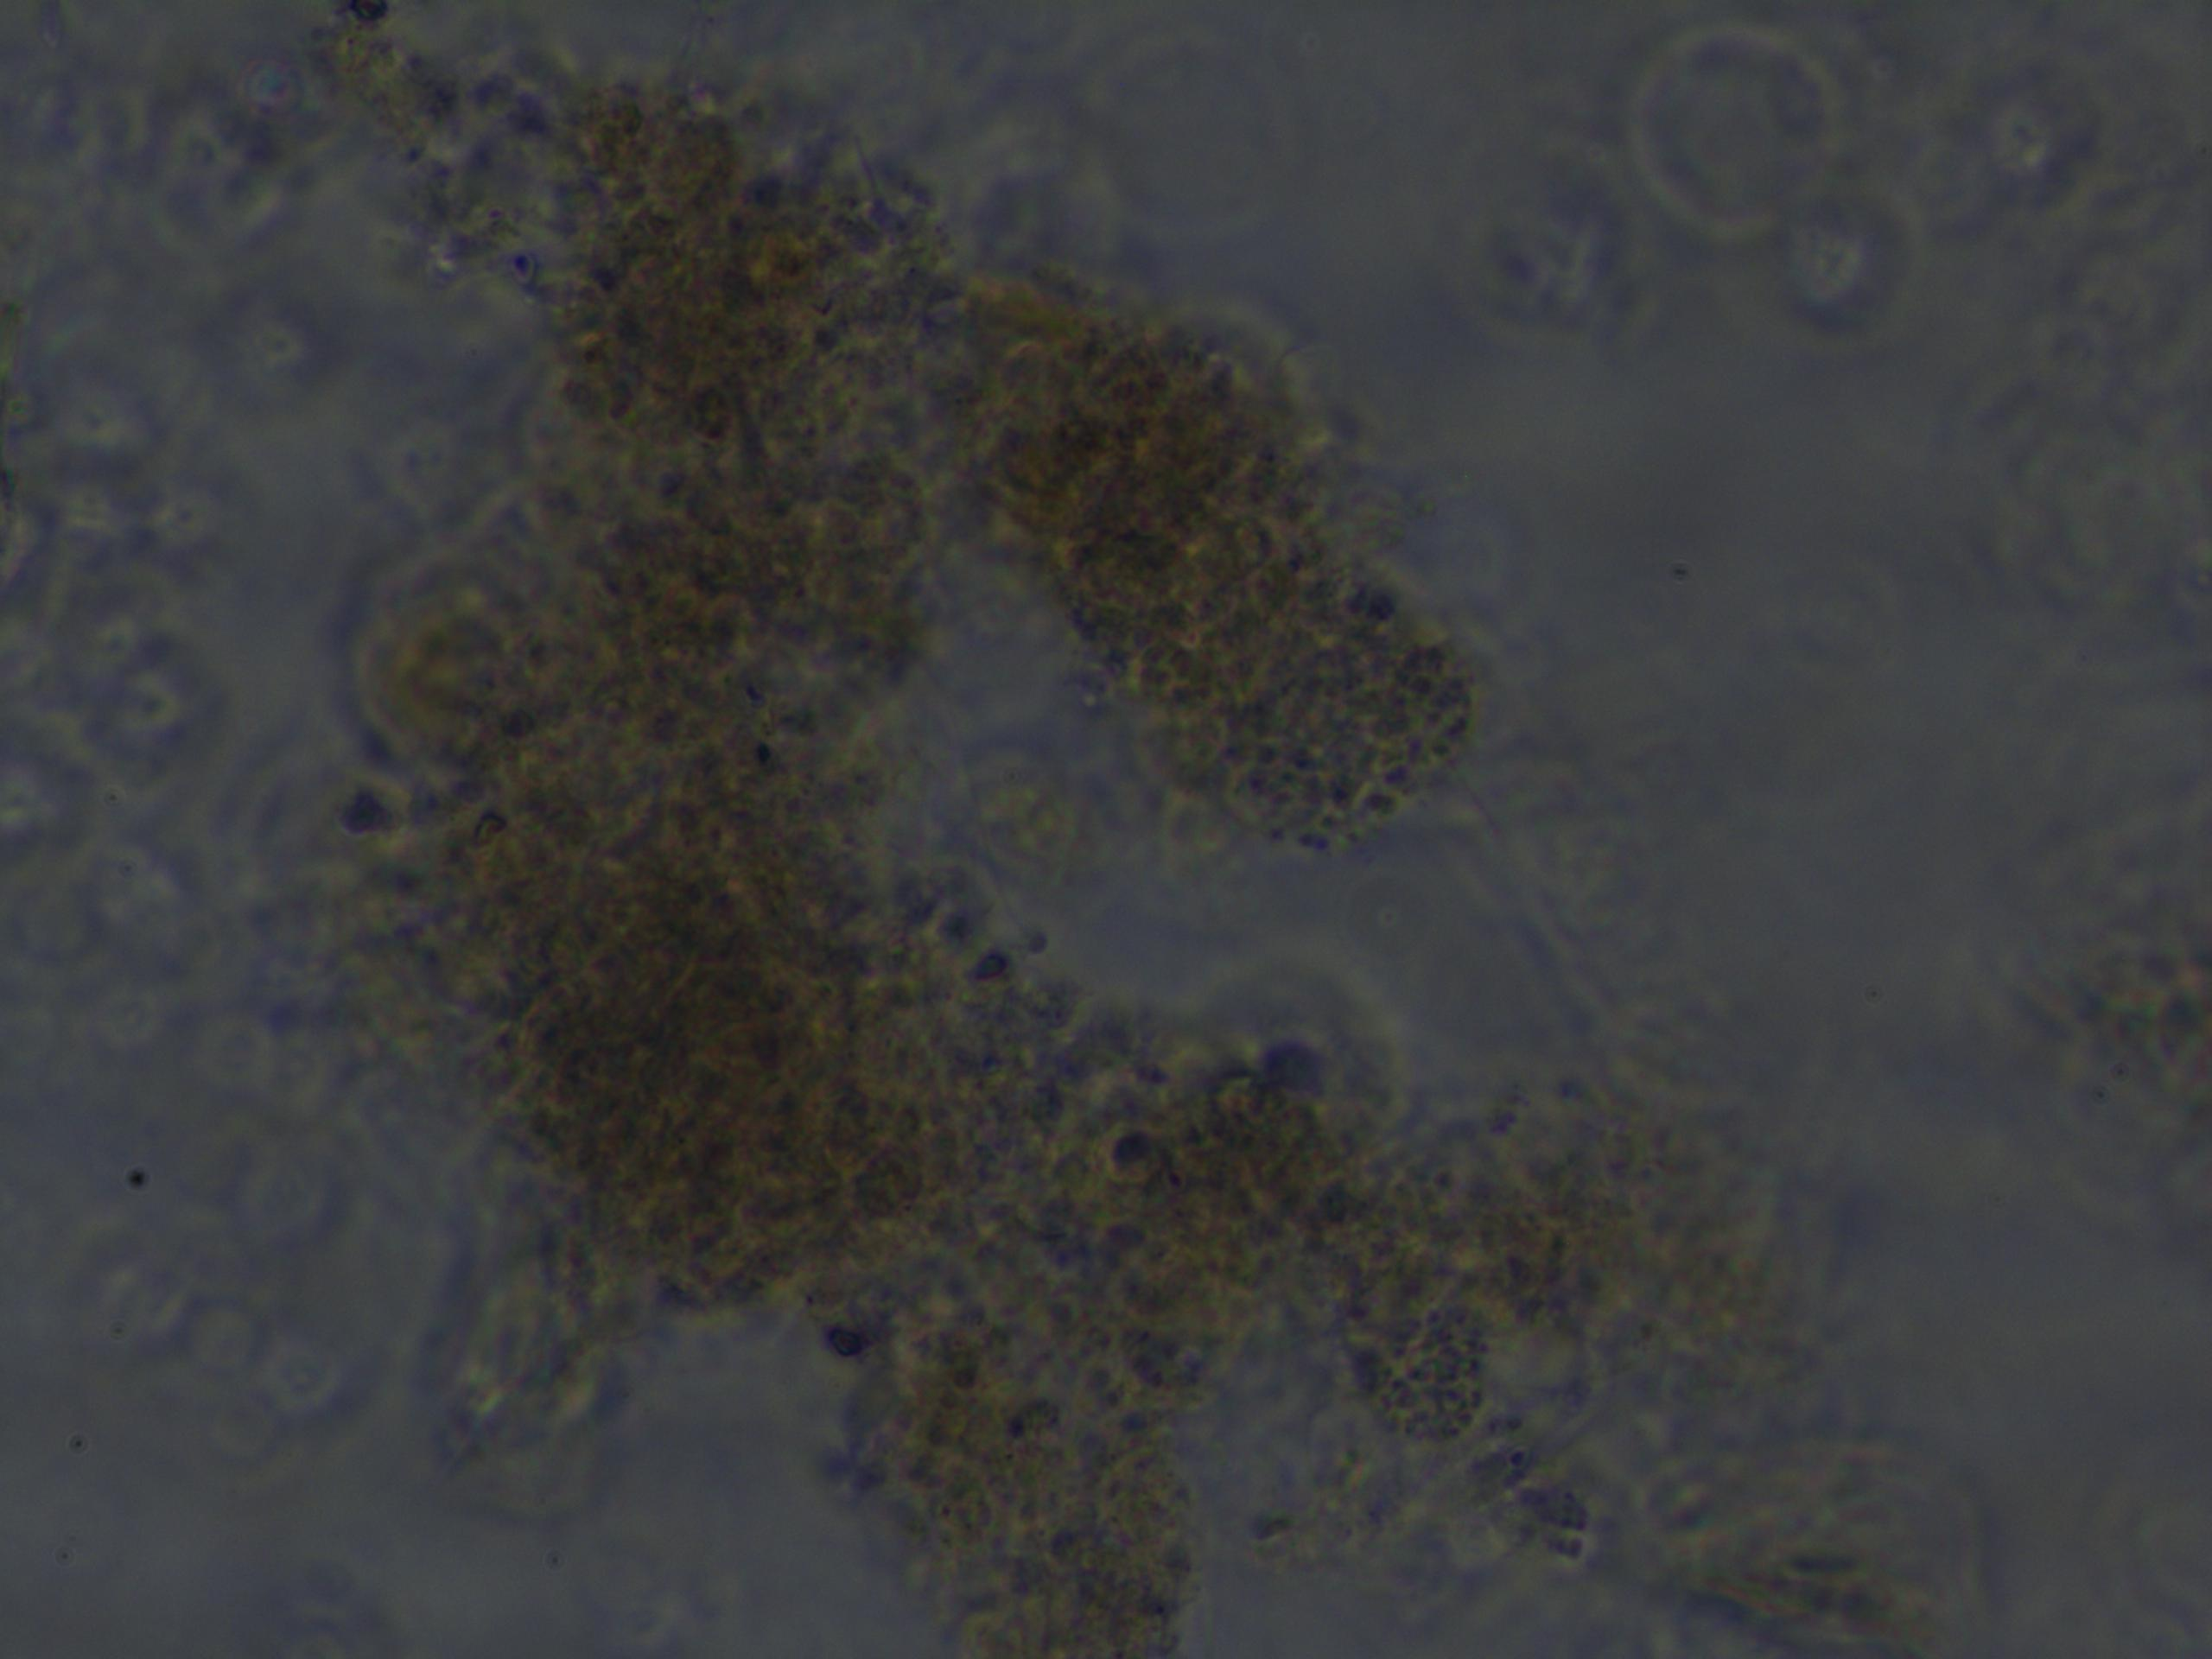open_floc: (359, 38, 1663, 1659)
